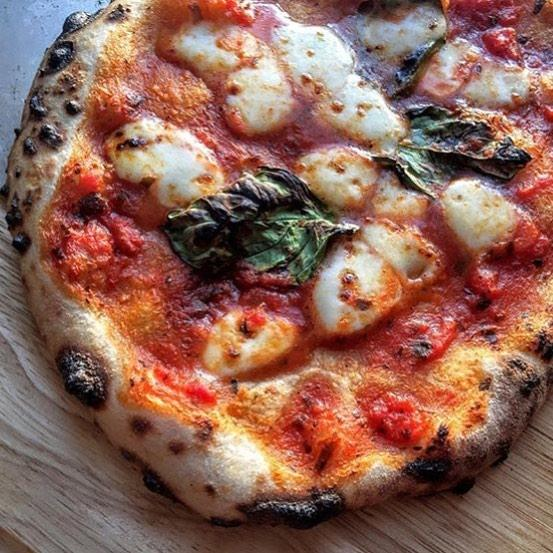Basil: (163, 182, 358, 282), (406, 106, 533, 179)
Cheese: (176, 27, 400, 145), (353, 15, 530, 106), (109, 122, 217, 207), (319, 250, 402, 324), (205, 301, 292, 370), (298, 149, 390, 212), (449, 177, 520, 253)
Pizza: (11, 5, 553, 523)
